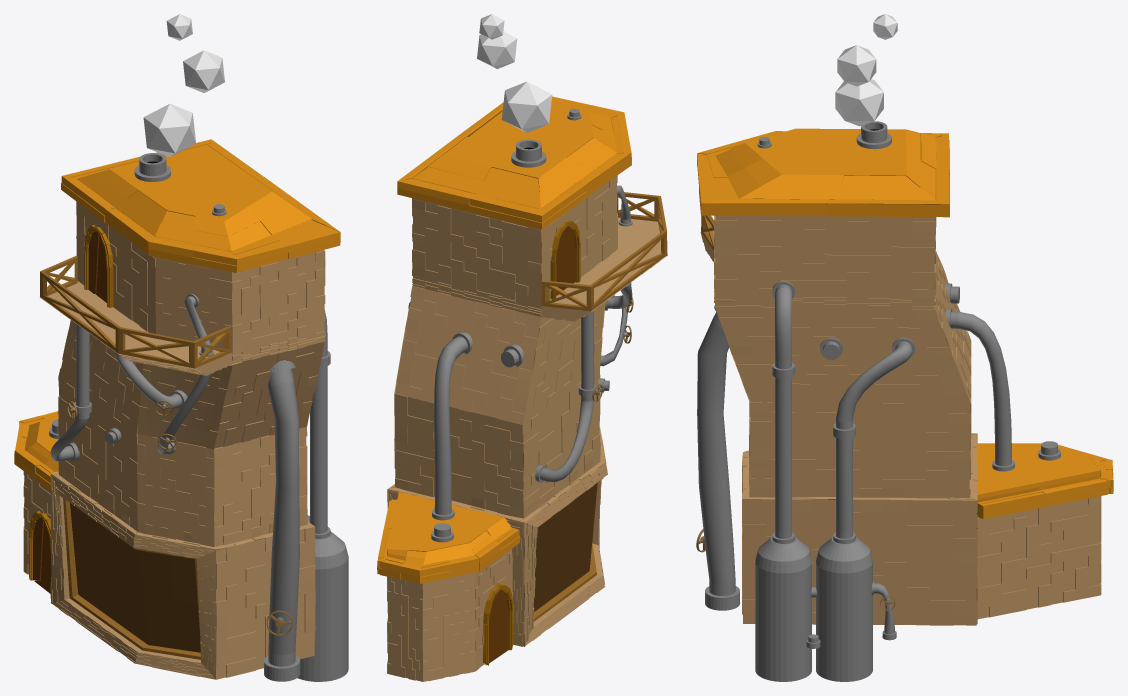
File: Shop_Building_3.fbx
The picture shows the model from 3 angles, left to right: view 1: azimuth 30°, elevation 25°; view 2: azimuth 150°, elevation 25°; view 3: azimuth 270°, elevation 25°; orthographic projection. The views are drawn at different scales.
Parts seen in each view (by area): view 1: Cube.460, Cylinder.804, Cylinder.805, Cylinder.807, Icosphere.054, Cylinder.816, Cube.461, Cube.464, Icosphere.055, Cylinder.811, Cylinder.826, Cylinder.812 (+2 smaller); view 2: Cube.460, Cylinder.822, Cylinder.816, Cube.464, Icosphere.054, Cube.461, Icosphere.055, Cylinder.812, Icosphere.056; view 3: Cube.460, Cylinder.804, Cylinder.805, Cylinder.806, Cylinder.822, Cylinder.807, Cylinder.821, Cylinder.820, Icosphere.054, Cylinder.818, Icosphere.055, Cylinder.812.
Boxes of the visible parts, box(x1,y1,x2,y2) form: Cube.460: box(14, 139, 340, 679); Cylinder.804: box(264, 360, 300, 681); Cylinder.805: box(298, 531, 348, 681); Cylinder.807: box(309, 351, 330, 538); Icosphere.054: box(143, 103, 196, 157); Cylinder.816: box(50, 324, 91, 461); Cube.461: box(84, 224, 113, 307); Cube.464: box(29, 511, 51, 593); Icosphere.055: box(183, 50, 224, 92); Cylinder.811: box(115, 352, 187, 409); Cylinder.826: box(157, 373, 211, 454); Cylinder.812: box(134, 153, 170, 181); Cube.460: box(377, 96, 667, 681); Cylinder.822: box(432, 332, 472, 520); Cylinder.816: box(535, 310, 596, 482); Cube.464: box(483, 583, 513, 665); Icosphere.054: box(501, 81, 552, 132); Cube.461: box(550, 220, 580, 299); Icosphere.055: box(477, 31, 517, 68); Cylinder.812: box(511, 139, 546, 167); Icosphere.056: box(479, 14, 504, 39); Cube.460: box(697, 128, 1113, 625); Cylinder.804: box(697, 305, 739, 610); Cylinder.805: box(755, 537, 811, 681); Cylinder.806: box(816, 537, 872, 681); Cylinder.822: box(945, 308, 1014, 471); Cylinder.807: box(772, 363, 794, 543); Cylinder.821: box(833, 337, 914, 439); Cylinder.820: box(833, 423, 855, 543); Icosphere.054: box(835, 79, 883, 126); Cylinder.818: box(772, 281, 794, 378); Icosphere.055: box(837, 45, 876, 86); Cylinder.812: box(856, 121, 891, 149).
Bounding box in the file's own units: 917 × 2375 × 1460.
